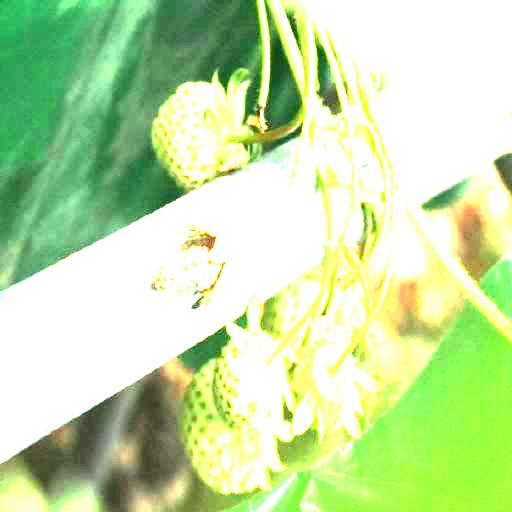Gray Mold: (150, 217, 242, 315)
